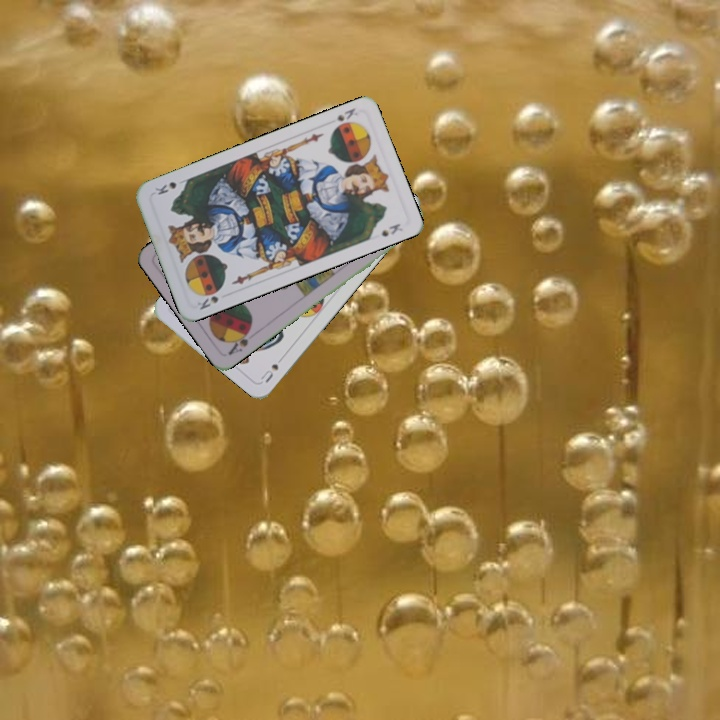SA: (224, 324, 254, 358)
SK: (331, 104, 363, 124), (193, 292, 221, 312)
SU: (256, 360, 281, 385)
